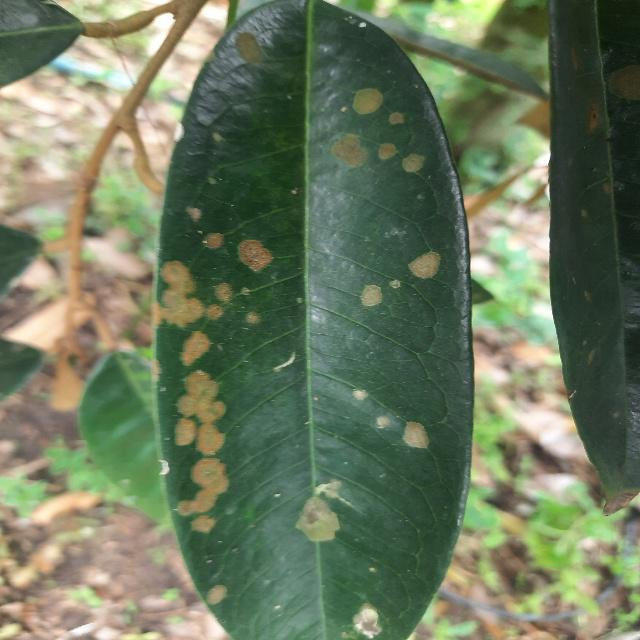Algal Leaf Spot: (143, 0, 483, 639)
